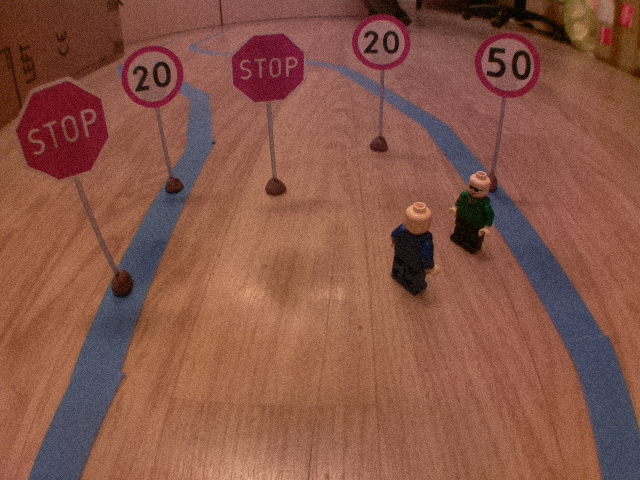LEGO_person: (387, 199, 441, 299), (447, 170, 497, 255)
ogr_20: (118, 44, 186, 111), (349, 13, 413, 71)
ogr_50: (472, 30, 544, 102)
stop: (11, 74, 112, 184), (229, 31, 309, 105)
